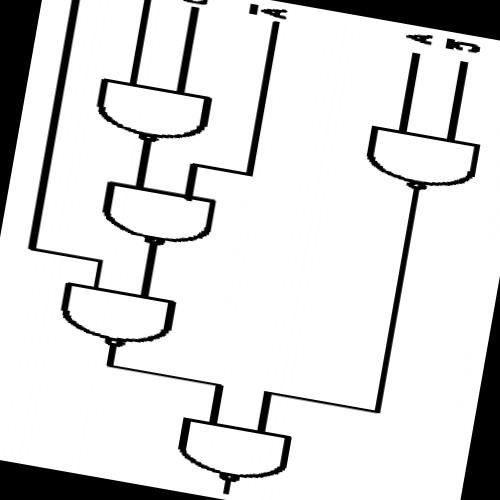nand: (27, 265, 210, 372), (143, 397, 333, 500), (78, 164, 238, 268), (340, 112, 498, 213), (76, 64, 226, 160)
